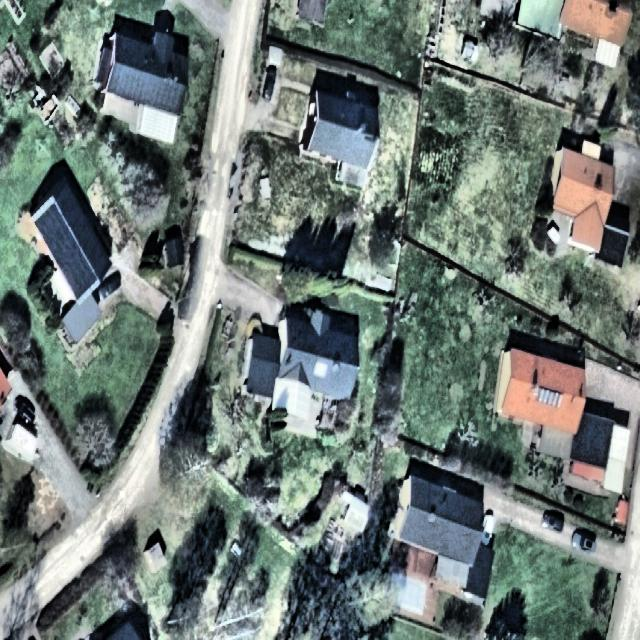roof_pv: (34, 199, 97, 302)
